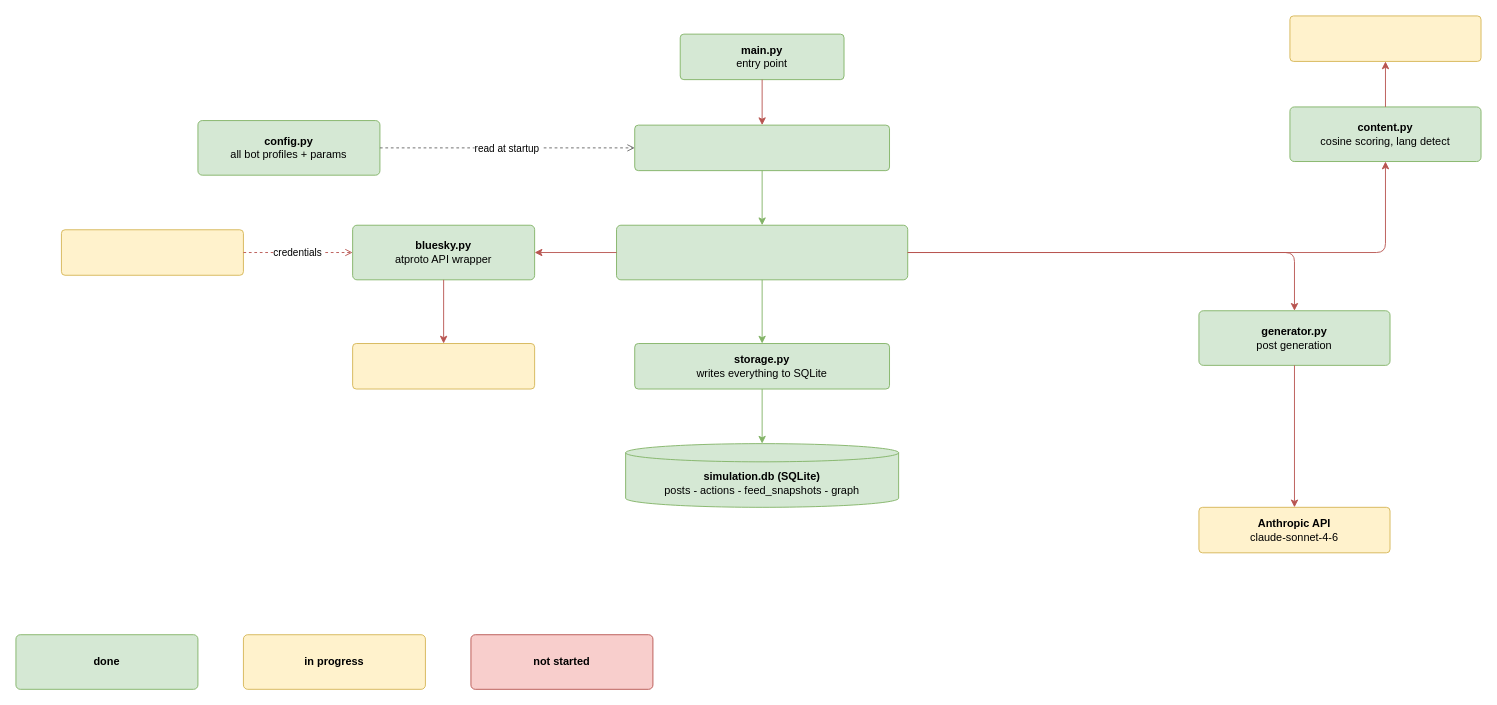
Some shapes in this 1497 by 705 pixel diagram are drawn without their labels. The centre of each missing label's shape, as x and y in pixels:
.env handles + passwords: (x=152, y=252)
Bluesky API atproto / AT Protocol: (x=443, y=366)
bot.py session loop - fetch, score, act, post, ...: (x=762, y=252)
scheduler.py APScheduler - fires bot sessions: (x=762, y=147)
sentence-transformers all-MiniLM-L6-v2 ??? need to check which one: (x=1385, y=38)
